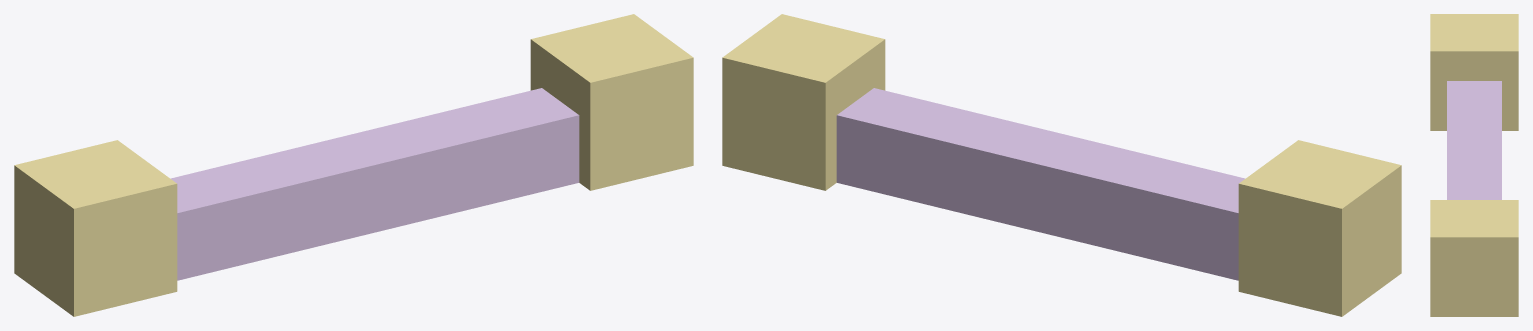
The model's file is Prop_Pet_AMF_ToyRope_V8.glb.
3 renders of one model, left to right at view 1: azimuth 30°, elevation 25°; view 2: azimuth 150°, elevation 25°; view 3: azimuth 270°, elevation 25°, orthographic. The views are drawn at different scales.
Parts seen in each view (by area): view 1: Prop_Pet_AMF_ToyRope_V8; view 2: Prop_Pet_AMF_ToyRope_V8; view 3: Prop_Pet_AMF_ToyRope_V8.
Part boxes in pixels (x1,y1,x2,y2): Prop_Pet_AMF_ToyRope_V8: [14, 14, 693, 316]; Prop_Pet_AMF_ToyRope_V8: [722, 14, 1401, 316]; Prop_Pet_AMF_ToyRope_V8: [1430, 14, 1518, 316].
Size of the model in its own units: 0.48 by 0.08 by 0.08.
